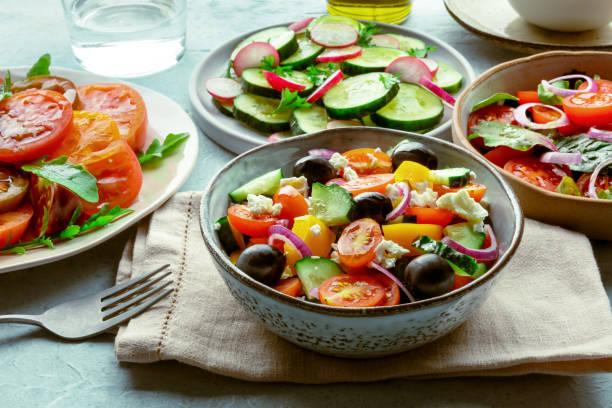Braised Crucian Carp: (200, 126, 521, 354), (189, 20, 466, 157)
